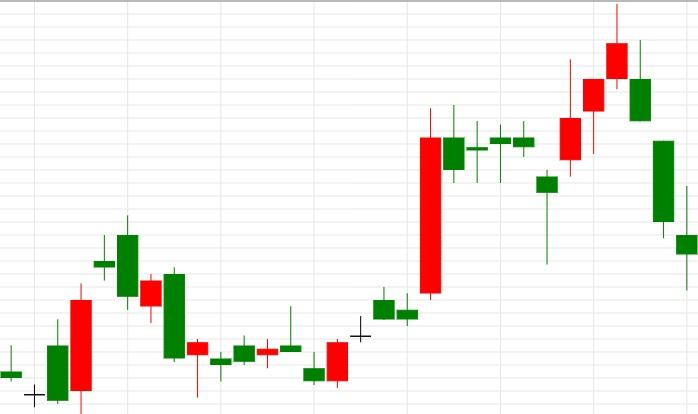three_white_soldiers_rise: (489, 5, 628, 264)
